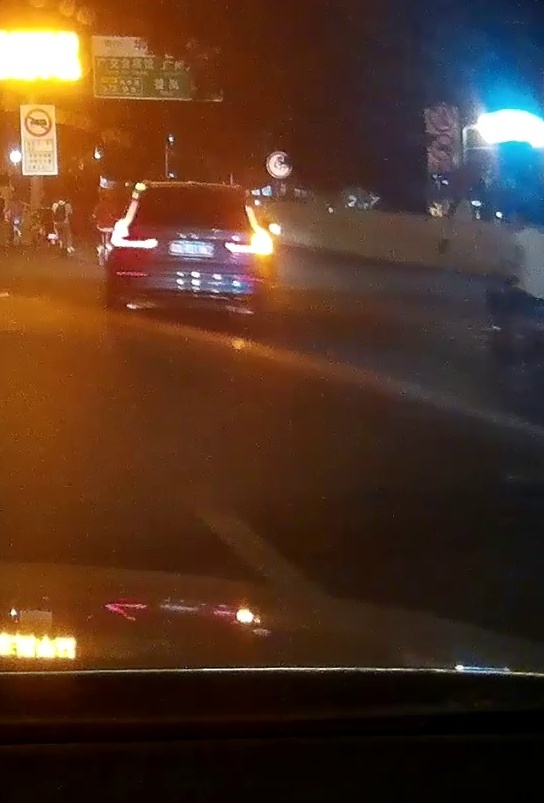L_light: (110, 199, 159, 249)
R_light: (224, 205, 273, 256)
T_light: (181, 188, 208, 192)
day-no: (104, 181, 274, 329)
